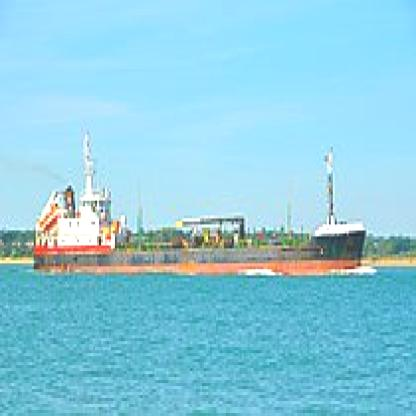Tanker: (32, 123, 376, 278)
